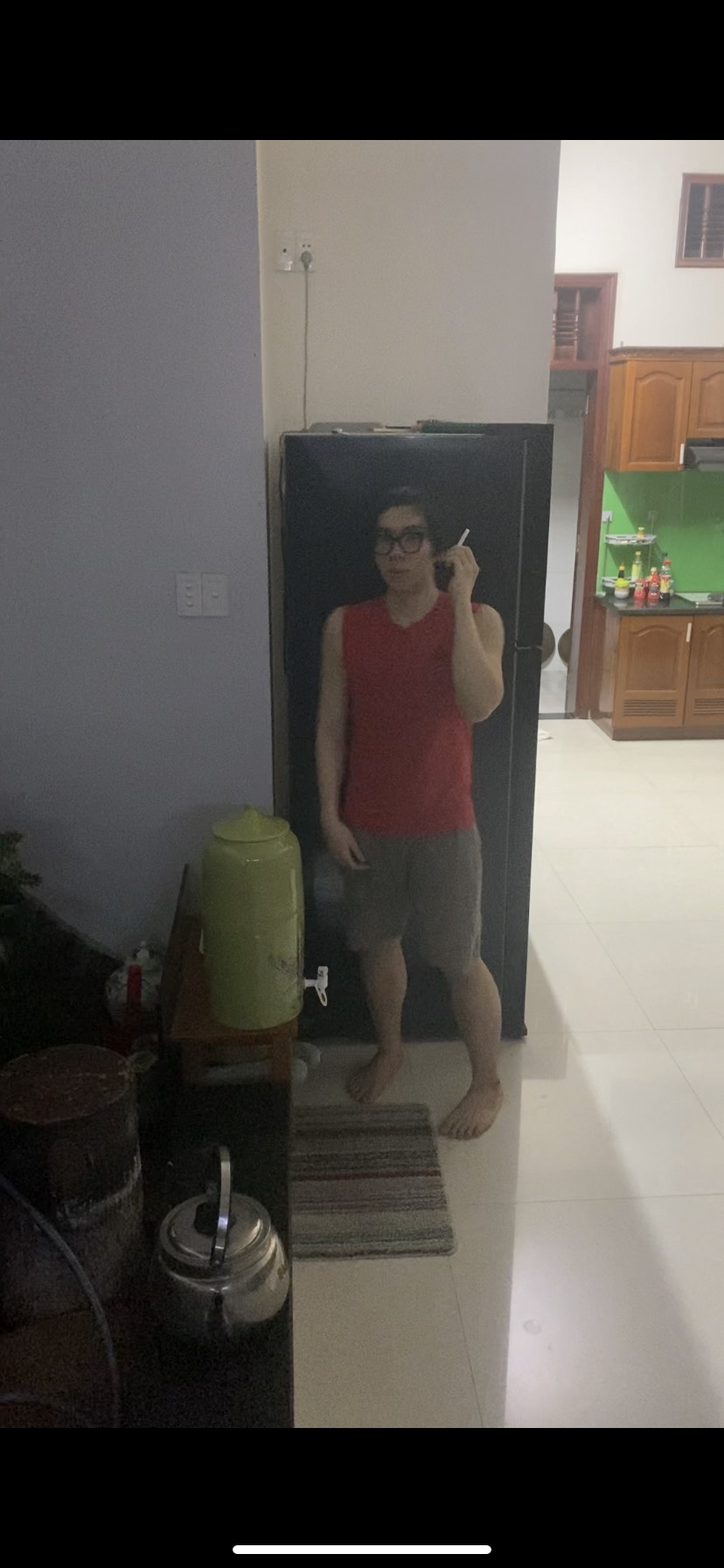cigarette: (455, 525, 473, 548)
person: (310, 475, 512, 1149)
